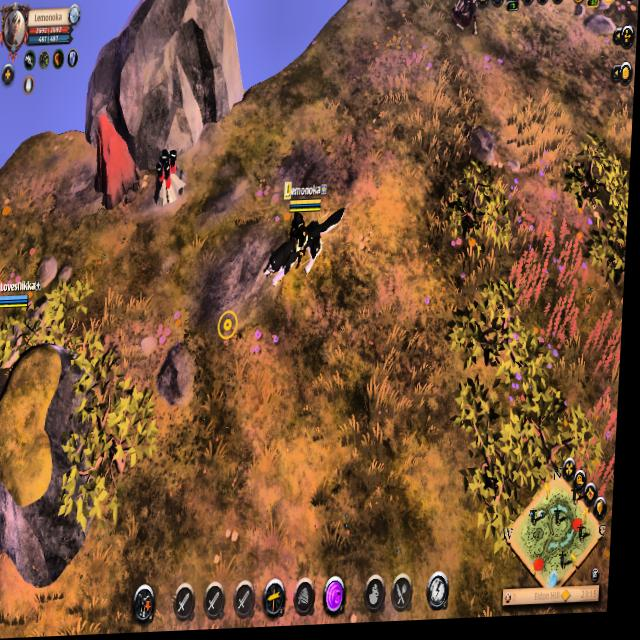ore tier 5: (154, 148, 190, 208)
rock tier 5: (93, 111, 145, 213)
